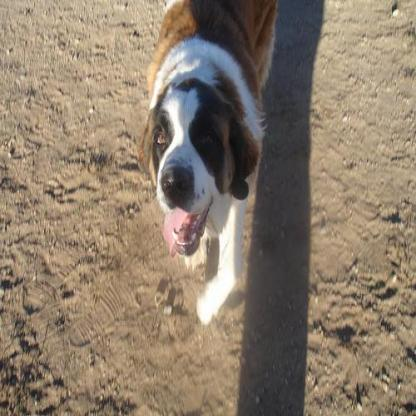Saint_Bernard: (138, 0, 271, 326)
